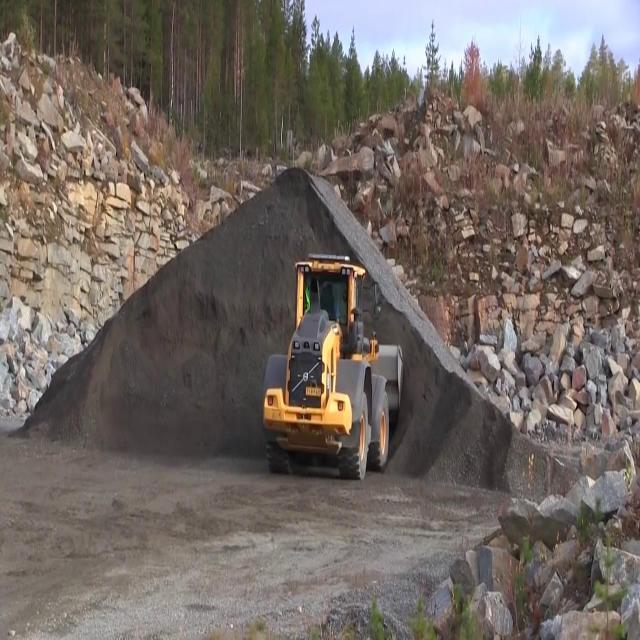Loader: (247, 245, 409, 486)
